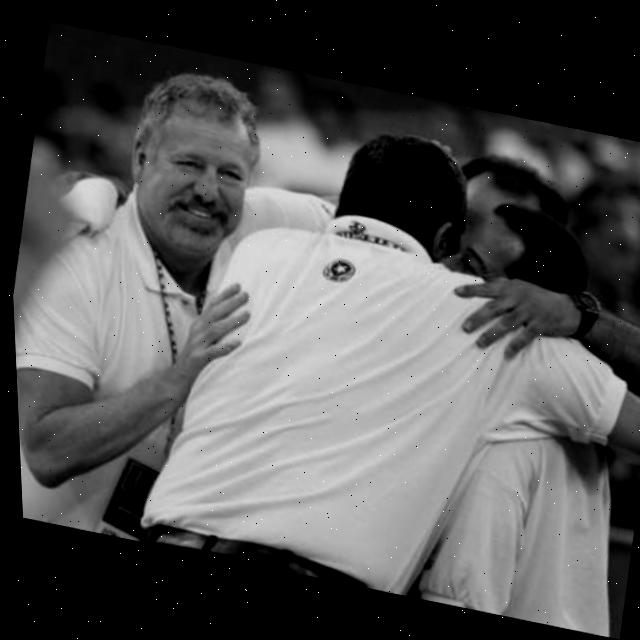face: (117, 82, 270, 267), (427, 197, 544, 306)
